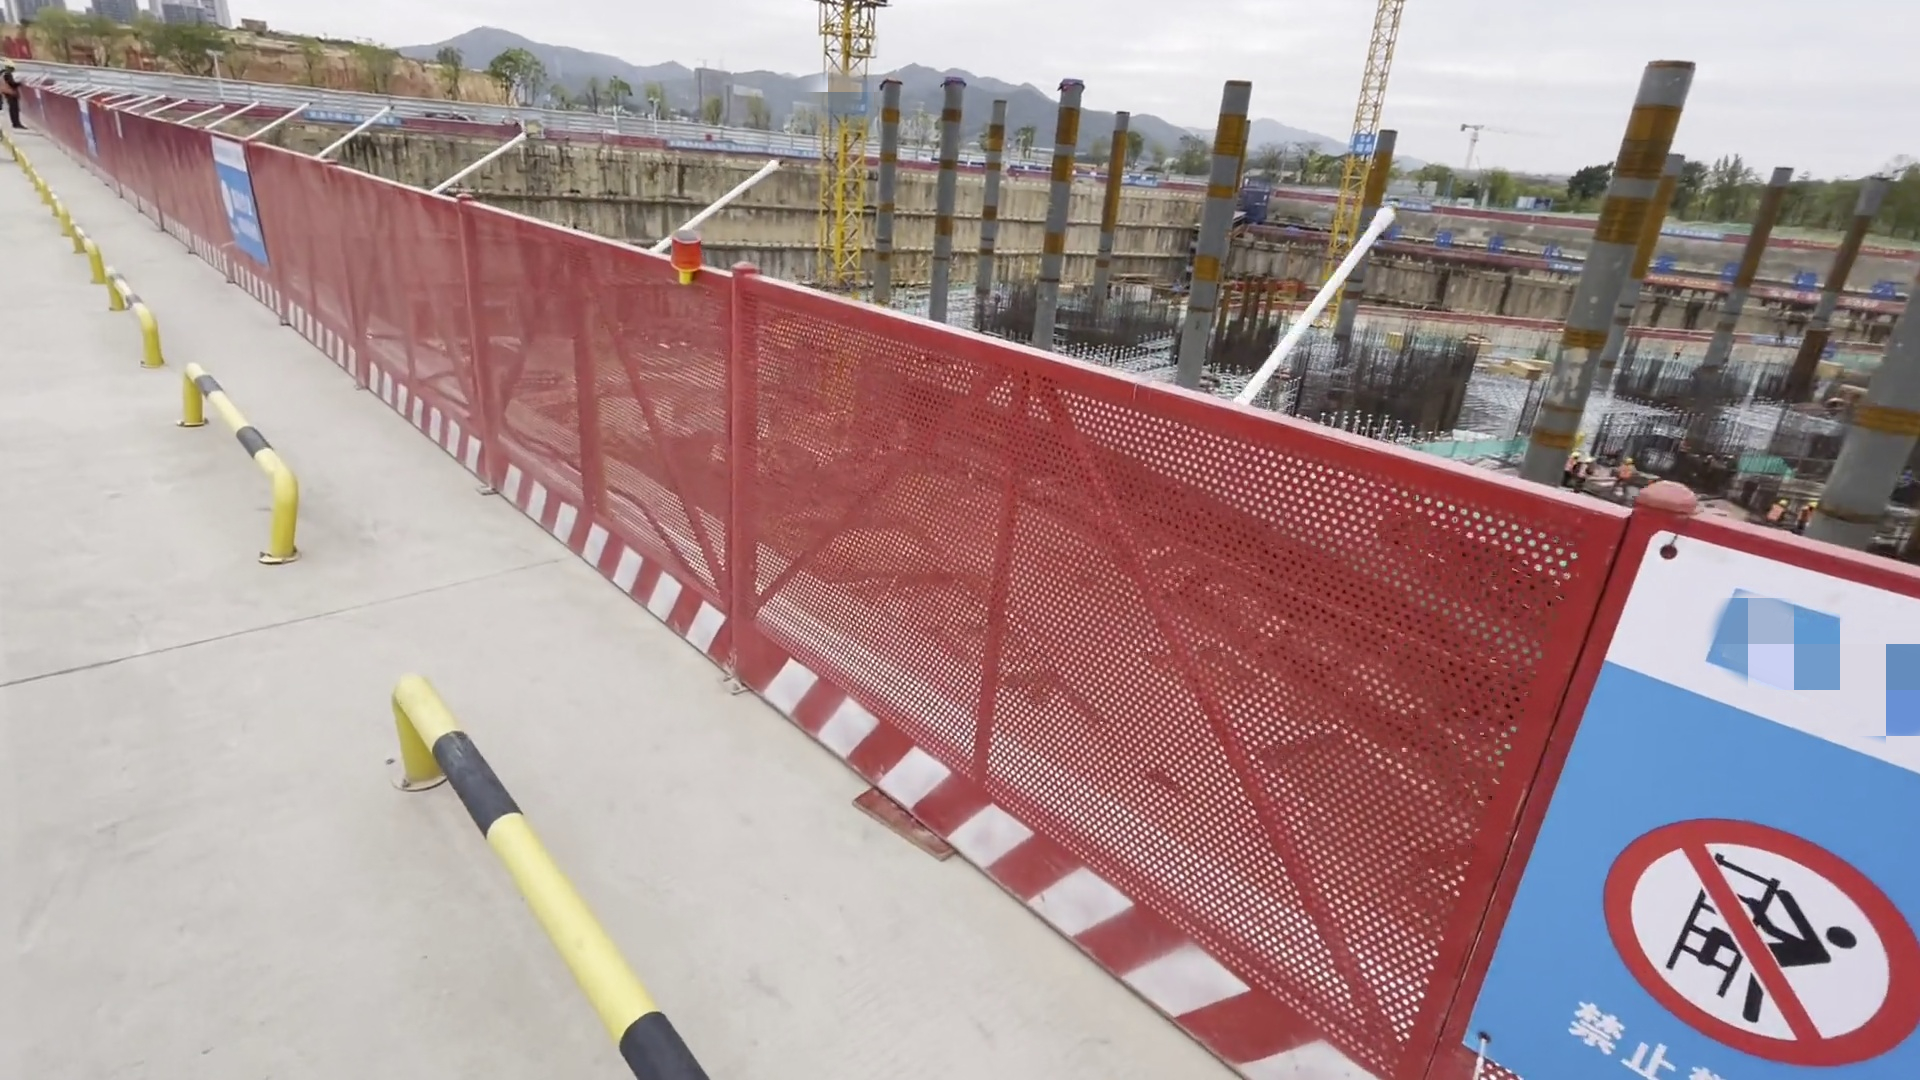fence: (521, 211, 1507, 1080), (25, 84, 554, 457)
person: (1, 59, 29, 133)
slogan: (1473, 675, 1917, 1080)
